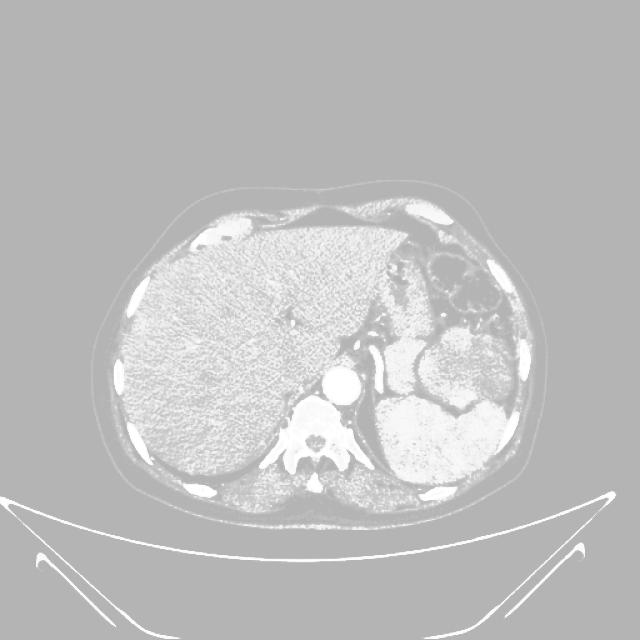TUMOR: (343, 243, 539, 470)
